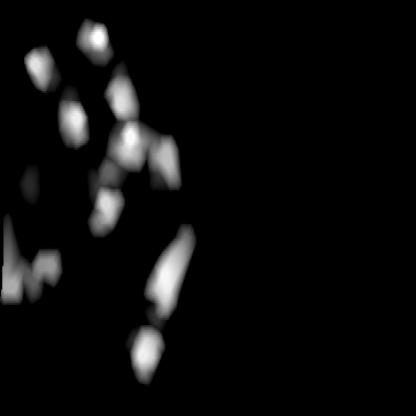fingers: (126, 322, 164, 384)
palm: (5, 17, 87, 301), (21, 17, 147, 118)
thumb: (83, 116, 192, 318)
